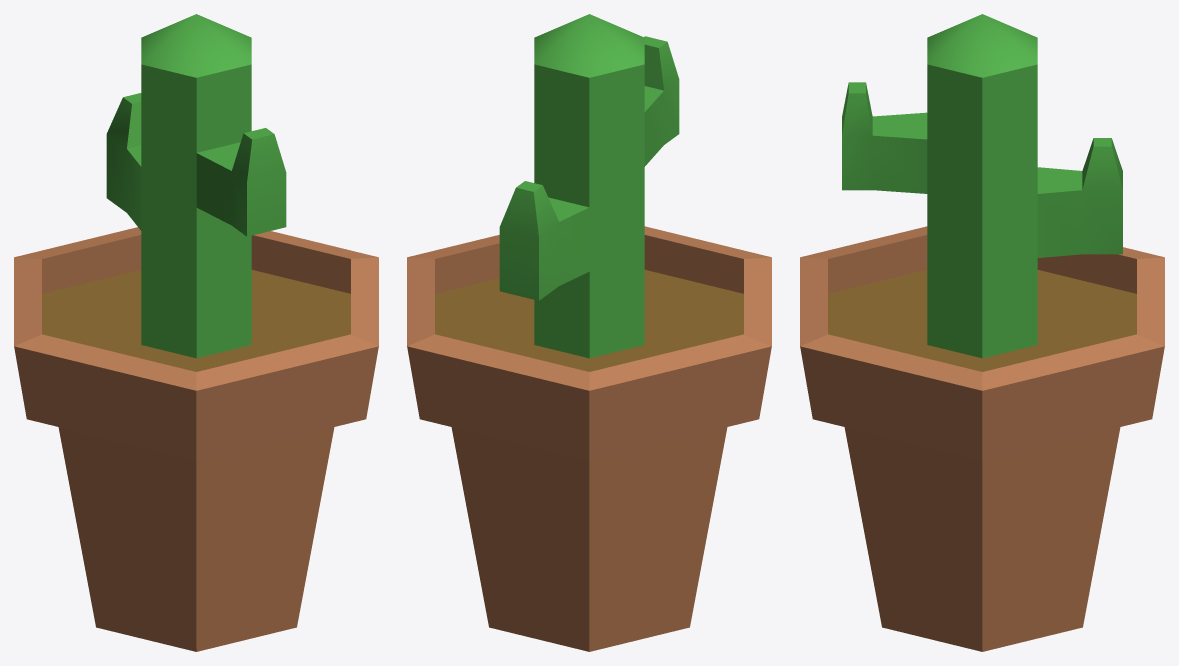
The model's file is cactus.fbx.
3 renders of one model, left to right at view 1: azimuth 30°, elevation 25°; view 2: azimuth 150°, elevation 25°; view 3: azimuth 270°, elevation 25°, orthographic.
Visible parts, largest first — view 1: pot, plant; view 2: pot, plant; view 3: pot, plant.
Boxes of the visible parts, x1,y1,x2,y2 form: pot: (14, 227, 378, 651); plant: (106, 14, 286, 358); pot: (407, 226, 771, 651); plant: (499, 14, 679, 358); pot: (800, 226, 1164, 651); plant: (842, 14, 1122, 358).
Bounding box in the file's own units: 2.36 × 3.65 × 2.05.
